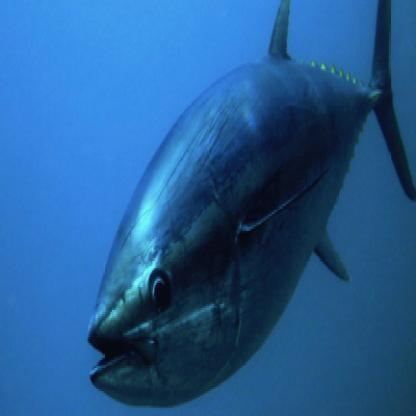Scombridae -Tunas-: (82, 1, 416, 411)
